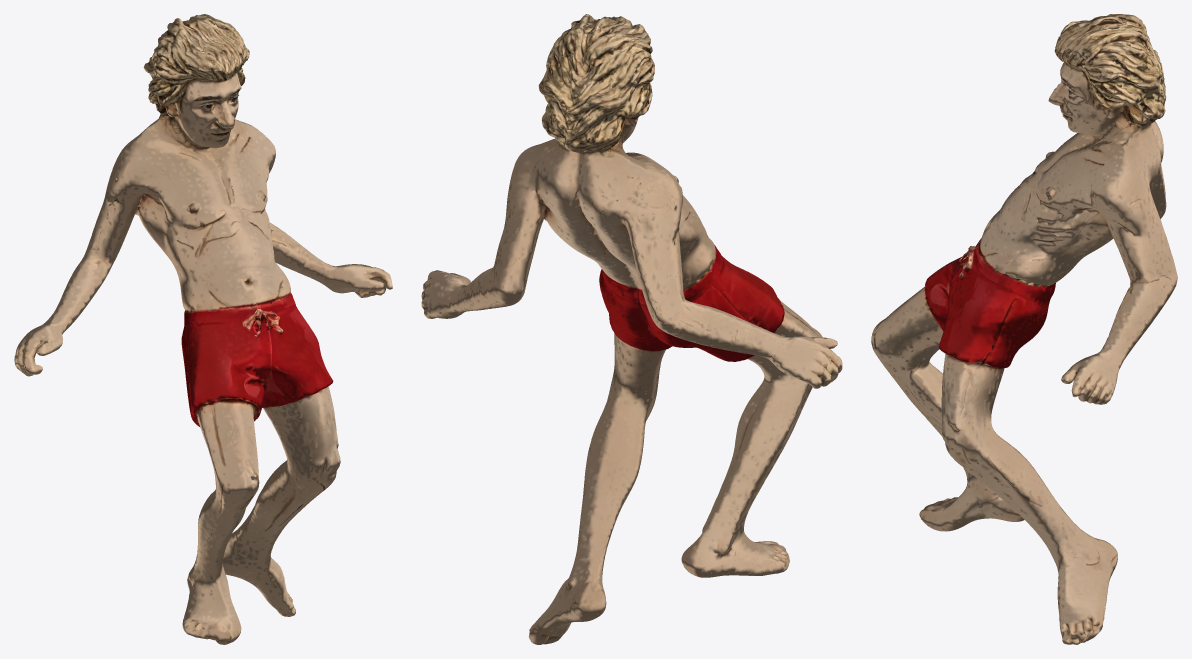
The model's file is malla.glb.
The picture shows the model from 3 angles, left to right: view 1: azimuth 30°, elevation 25°; view 2: azimuth 150°, elevation 25°; view 3: azimuth 270°, elevation 25°; orthographic projection. The views are drawn at different scales.
Parts seen in each view (by area): view 1: model; view 2: model; view 3: model.
Boxes of the visible parts, x1=… form: model: x1=14, y1=14, x2=392, y2=644; model: x1=421, y1=14, x2=842, y2=644; model: x1=871, y1=14, x2=1177, y2=644.
Size of the model in its own units: 1.24 by 1.9 by 0.8868.
Materials: 1 (1 with a texture image).
